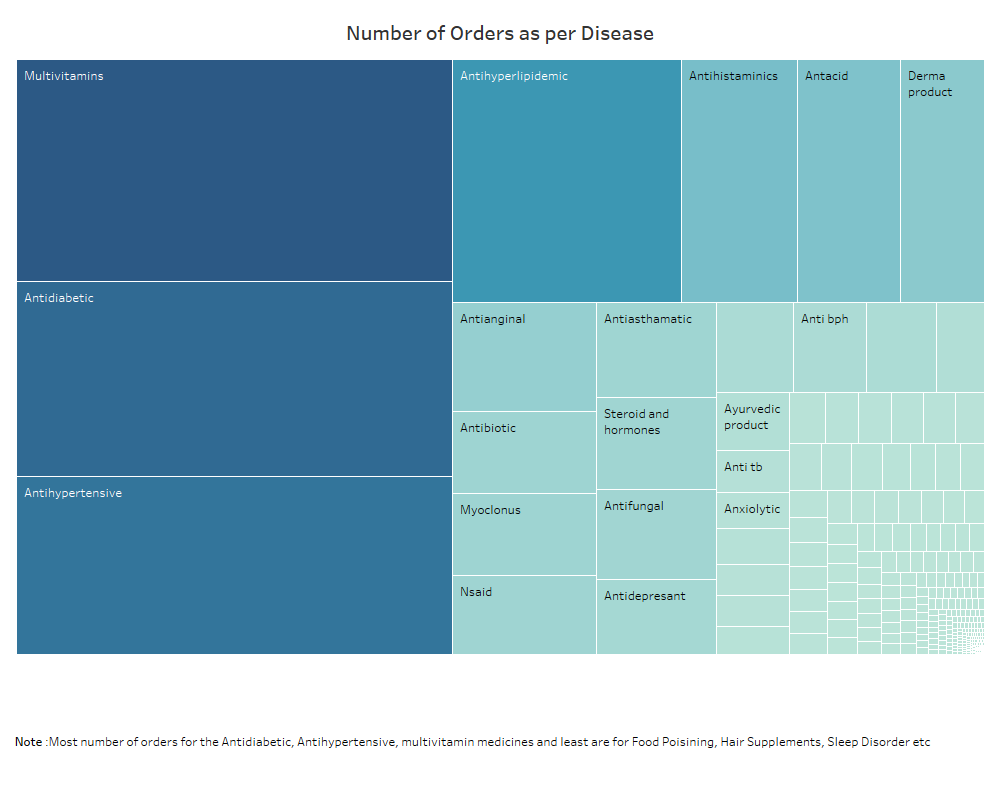

The dashboard page shown, as its layout file describes it:
{"tool":"tableau","page":{"name":"Dashboard 1","canvas":[1000,800],"ordinal":0},"visuals":[{"type":"worksheet","title":"Numbr of Orders per Disease","mark":"Automatic","box":[8,8,984,683]},{"type":"text","box":[8,691,984,101]}]}

Visuals, with their boxes in screenshot pixels (x1, y1, x2, y2), scaled from the page's 1000x800 canvas onto the 1000x800 screenshot:
"Numbr of Orders per Disease" worksheet: 8:8:992:691
text: 8:691:992:792
